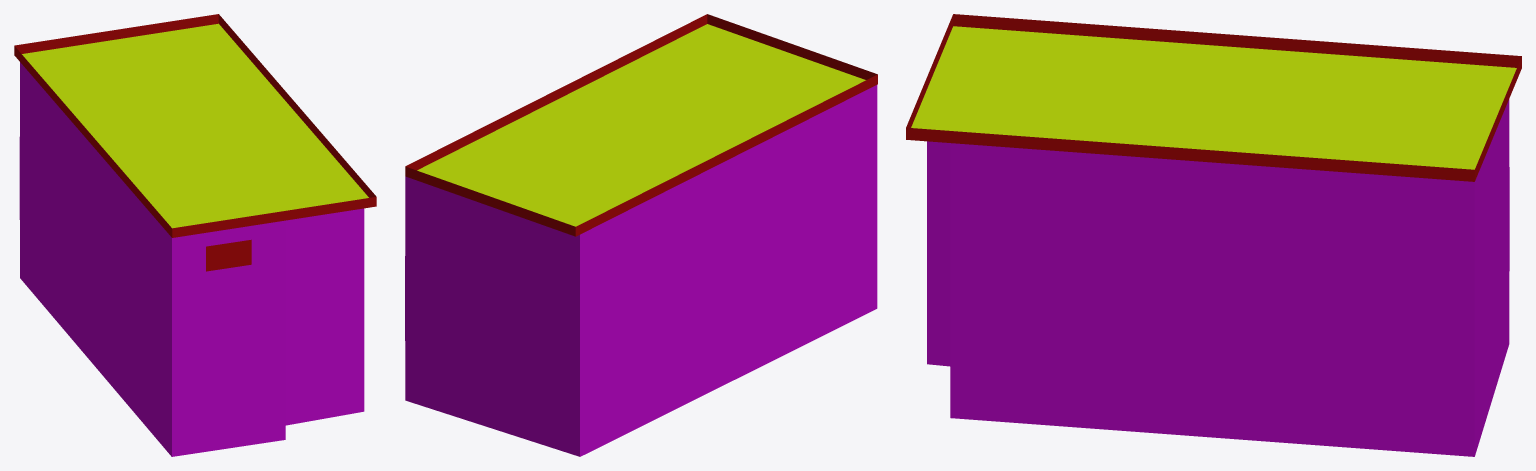
File: bgj_399.glb
3 renders of one model, left to right at view 1: azimuth 30°, elevation 25°; view 2: azimuth 150°, elevation 25°; view 3: azimuth 270°, elevation 25°, orthographic. The views are drawn at different scales.
Parts seen in each view (by area): view 1: bgj_399; view 2: bgj_399; view 3: bgj_399.
Boxes of the visible parts, x1,y1,x2,y2 form: bgj_399: (14, 14, 376, 456); bgj_399: (405, 14, 877, 456); bgj_399: (906, 14, 1521, 456).
Size of the model in its own units: 9.6 by 8.25 by 16.02.
